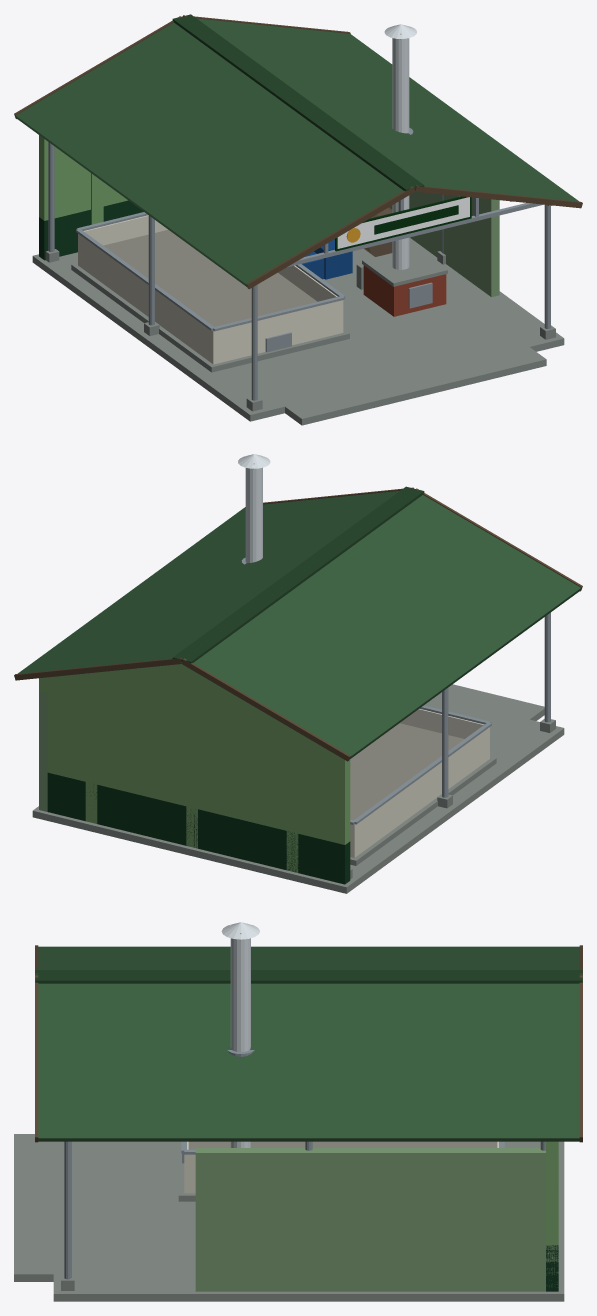
File: rares_flatbed_dryer.glb
The picture shows the model from 3 angles, top to bottom: view 1: azimuth 30°, elevation 25°; view 2: azimuth 150°, elevation 25°; view 3: azimuth 270°, elevation 25°; orthographic projection. The views are drawn at different scales.
Visible parts, largest first — view 1: RFD_Roof_Slope_South, RFD_Concrete_Slab, RFD_Roof_Slope_North, RFD_Bin_Floor, RFD_Entrance_Apron, RFD_Roof_RidgeCap, RFD_North_Partition_Wall, RFD_Bin_Wall_South, RFD_Bin_Wall_Front, RFD_Rear_WallUpper, RFD_Chimney_Pipe, RFD_Bin_Footing (+20 smaller); view 2: RFD_Roof_Slope_South, RFD_Rear_WallUpper, RFD_Roof_Slope_North, RFD_Rear_Wainscot, RFD_Concrete_Slab, RFD_Rear_Gable, RFD_Bin_Floor, RFD_Roof_RidgeCap, RFD_Bin_Wall_South, RFD_Rear_Pilaster_2.4, RFD_Rear_Pilaster_-2.4, RFD_Chimney_Pipe (+11 smaller); view 3: RFD_Roof_Slope_North, RFD_North_Partition_Wall, RFD_Concrete_Slab, RFD_Roof_Slope_South, RFD_Roof_RidgeCap, RFD_Entrance_Apron, RFD_Chimney_Pipe, RFD_Bin_Floor, RFD_Rear_WallUpper, RFD_Column_FN, RFD_Fascia_North_4.800000000000001, RFD_Fascia_North_-4.800000000000001 (+2 smaller).
Part boxes in pixels (bbox=[...]): RFD_Roof_Slope_South: bbox=[15, 22, 403, 287]; RFD_Concrete_Slab: bbox=[32, 237, 564, 421]; RFD_Roof_Slope_North: bbox=[197, 18, 578, 201]; RFD_Bin_Floor: bbox=[103, 229, 317, 326]; RFD_Entrance_Apron: bbox=[283, 345, 546, 425]; RFD_Roof_RidgeCap: bbox=[172, 14, 424, 191]; RFD_North_Partition_Wall: bbox=[389, 191, 499, 297]; RFD_Bin_Wall_South: bbox=[78, 234, 216, 363]; RFD_Bin_Wall_Front: bbox=[211, 300, 343, 364]; RFD_Rear_WallUpper: bbox=[39, 135, 127, 220]; RFD_Chimney_Pipe: bbox=[392, 38, 409, 269]; RFD_Bin_Footing: bbox=[71, 263, 349, 372]; RFD_Roof_Slope_South: bbox=[193, 495, 581, 759]; RFD_Rear_WallUpper: bbox=[39, 677, 350, 844]; RFD_Roof_Slope_North: bbox=[17, 491, 399, 673]; RFD_Rear_Wainscot: bbox=[47, 772, 350, 884]; RFD_Concrete_Slab: bbox=[32, 696, 564, 893]; RFD_Rear_Gable: bbox=[52, 664, 311, 740]; RFD_Bin_Floor: bbox=[350, 723, 464, 820]; RFD_Roof_RidgeCap: bbox=[172, 486, 424, 663]; RFD_Bin_Wall_South: bbox=[353, 727, 489, 857]; RFD_Rear_Pilaster_2.4: bbox=[85, 686, 97, 823]; RFD_Rear_Pilaster_-2.4: bbox=[286, 734, 298, 872]; RFD_Chimney_Pipe: bbox=[245, 467, 262, 563]; RFD_Roof_Slope_North: bbox=[37, 983, 580, 1141]; RFD_North_Partition_Wall: bbox=[195, 1148, 558, 1291]; RFD_Concrete_Slab: bbox=[53, 1141, 564, 1301]; RFD_Roof_Slope_South: bbox=[38, 946, 579, 969]; RFD_Roof_RidgeCap: bbox=[35, 970, 582, 983]; RFD_Entrance_Apron: bbox=[14, 1134, 59, 1281]; RFD_Chimney_Pipe: bbox=[230, 938, 250, 1147]; RFD_Bin_Floor: bbox=[188, 1141, 497, 1149]; RFD_Rear_WallUpper: bbox=[546, 1141, 558, 1245]; RFD_Column_FN: bbox=[64, 1141, 71, 1279]; RFD_Fascia_North_4.800000000000001: bbox=[579, 975, 582, 1142]; RFD_Fascia_North_-4.800000000000001: bbox=[35, 975, 38, 1142].
Size of the model in its own units: 8 by 6.45 by 10.03.
